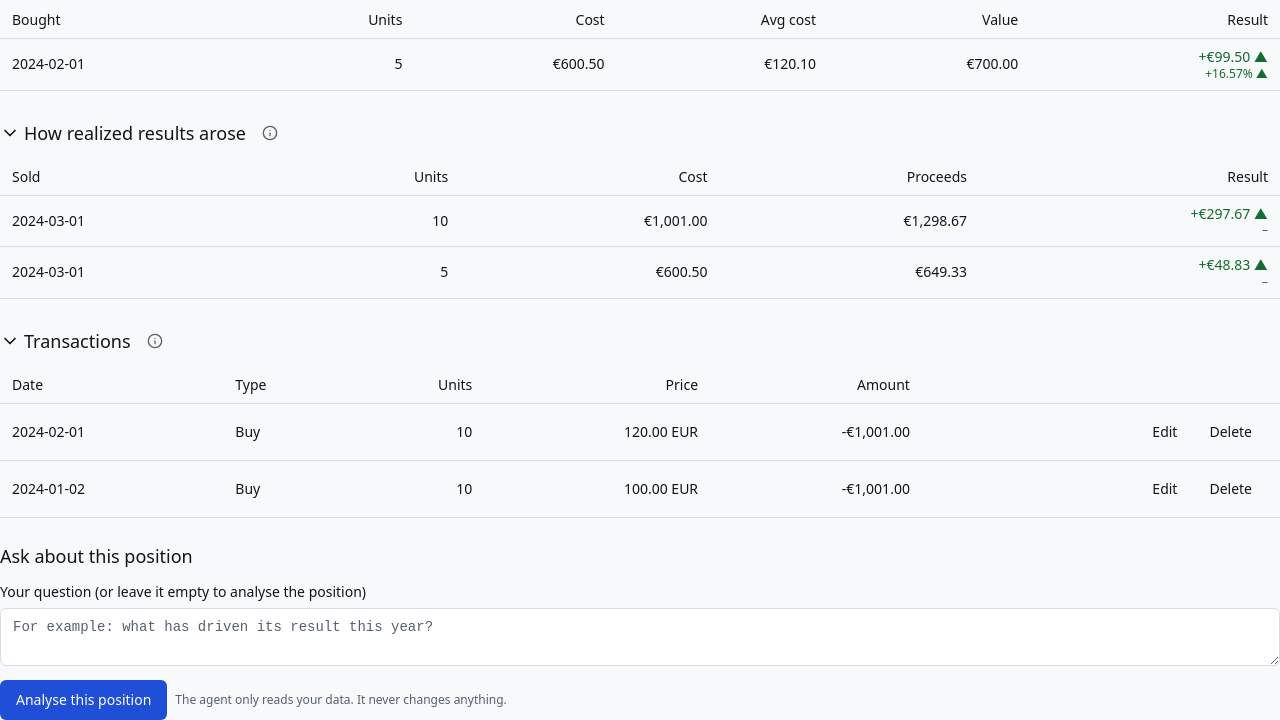
Test: editing a transaction from the position (FR-TX-14) › opens the stored values of a row, saves the change and reloads the position
(page scrolled)
Click the button with aria-label "Edit the Buy of 2024-01-02". click: (1165,488)
box: [1136,468,1194,508]
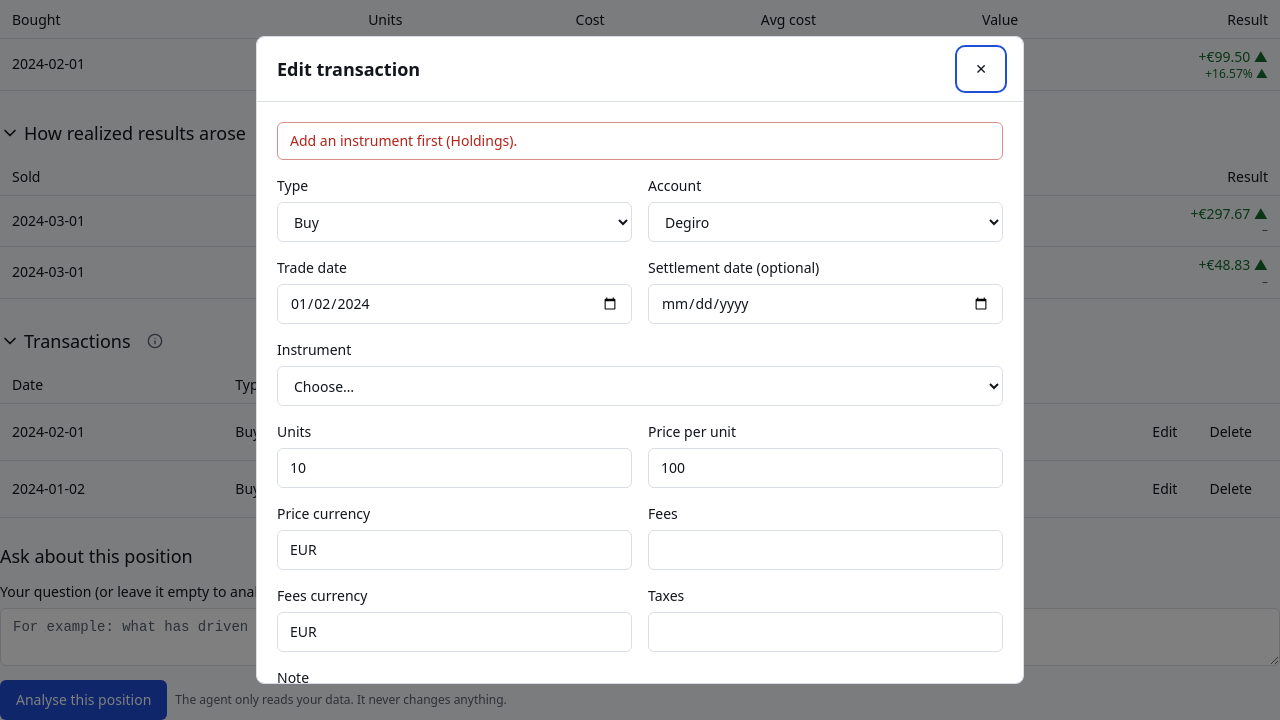
Expected: the field labelled "Units" holds "10", [277,448,632,488]
Expected: the field labelled "Price per unit" holds "100"
Replace the text in the field labelled "Price per unit" with "110". click: (826,468)
box: [648,448,1003,488]
(page scrolled)
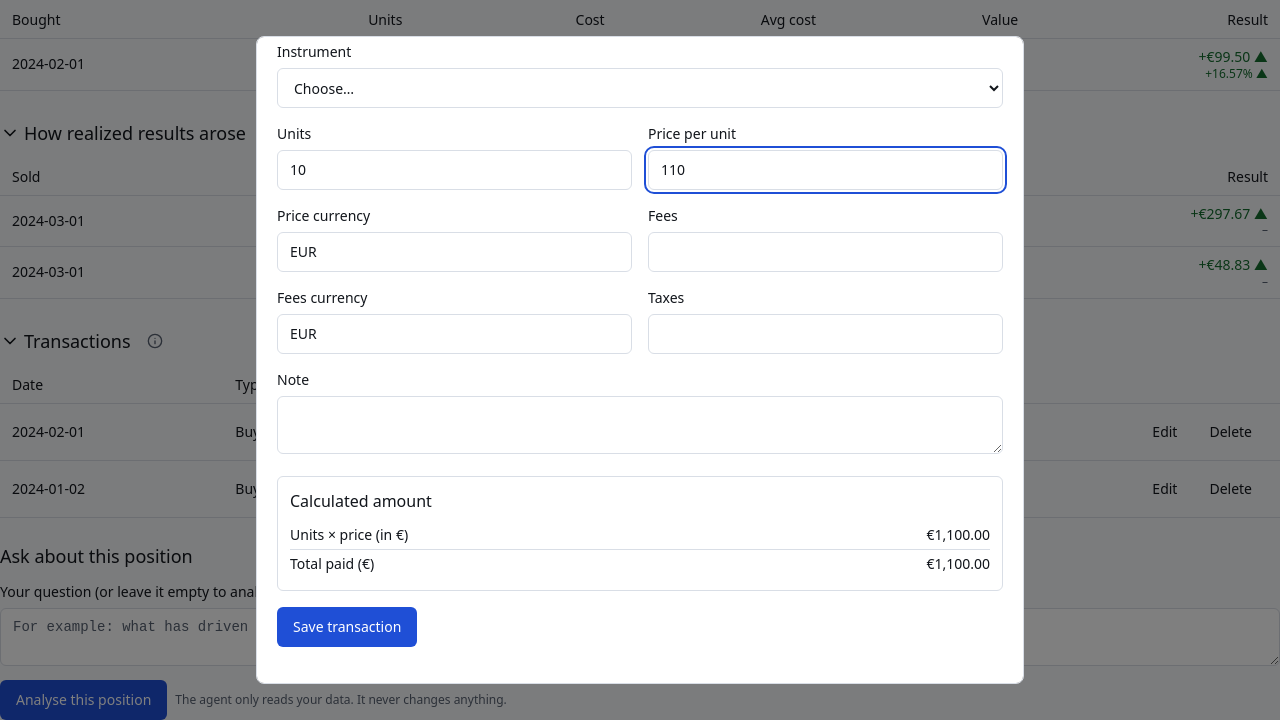
Click the button "Save transaction". click: (347,627)
box: [277,607,417,647]
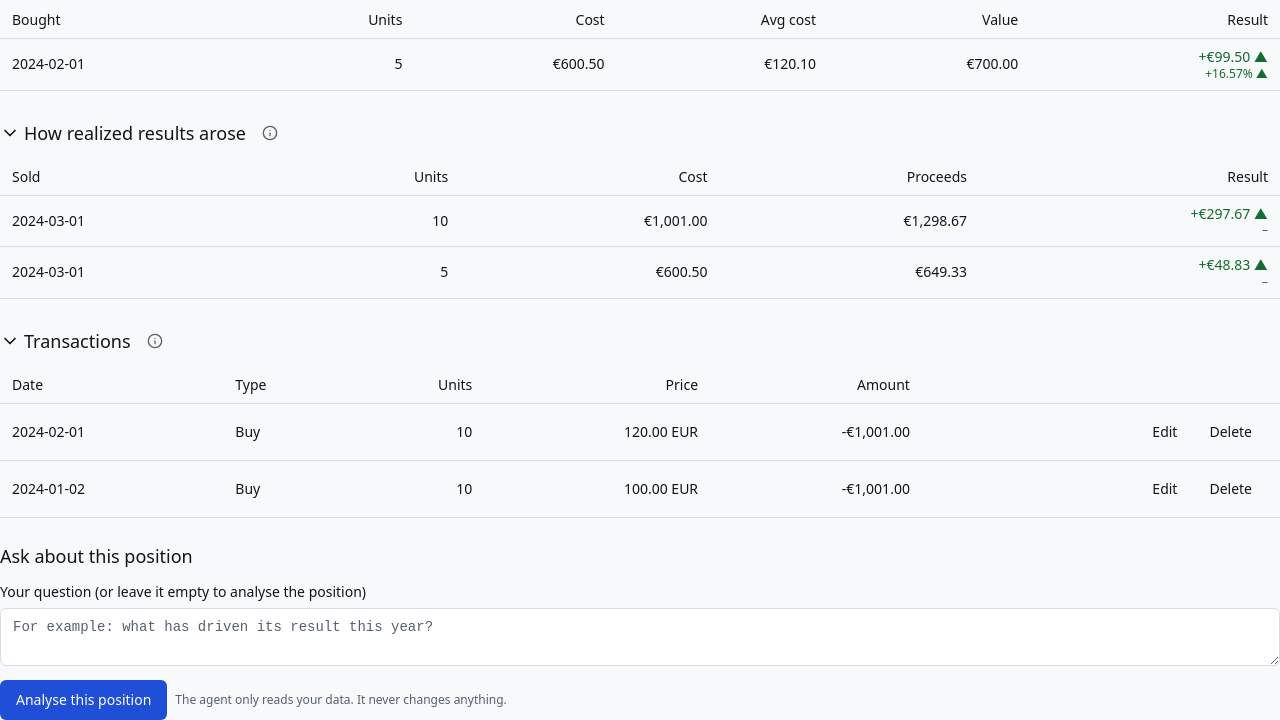
Expected: the dialog is gone
